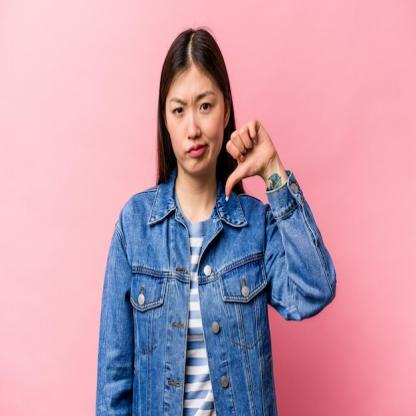thumb_down: (221, 114, 276, 204)
